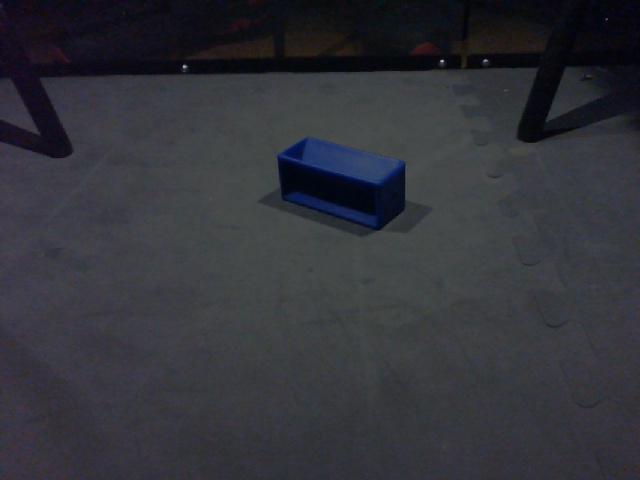BlueSample: (276, 131, 410, 230)
